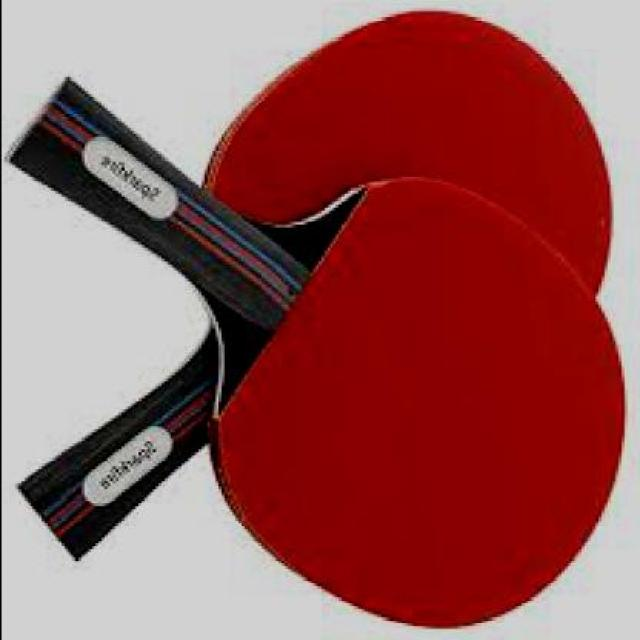table_tennis_racket: (6, 11, 626, 632)
